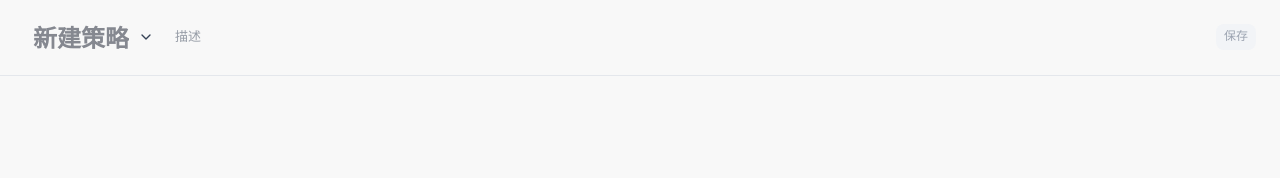
下拉行给出注入字数，悬停可见出身三参数
Click the button named "切换策略" at [146, 36], box [134,24,158,48]
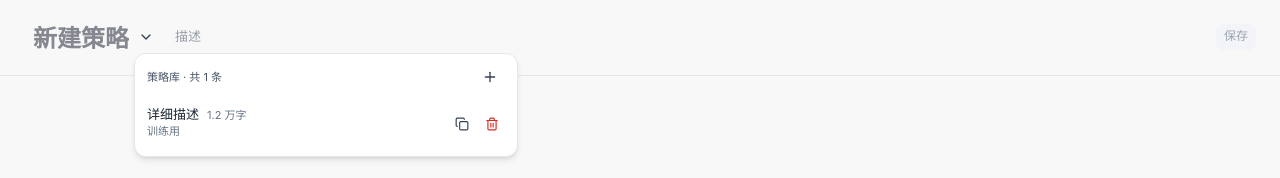
Expected: the button "详细描述 1.2 万字 训练用" is shown
Hover over the button "详细描述 1.2 万字 训练用" at [173, 114], box [147,104,445,139]
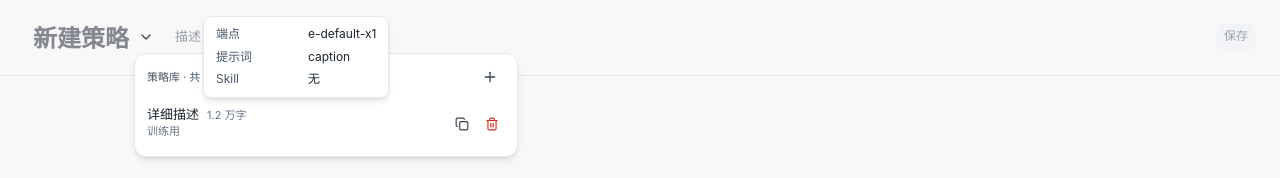
Expected: the tooltip shows "端点", [216,26,240,41]
Expected: the tooltip shows "default", [308,26,376,41]
Expected: the tooltip shows "提示词", [216,49,252,64]
